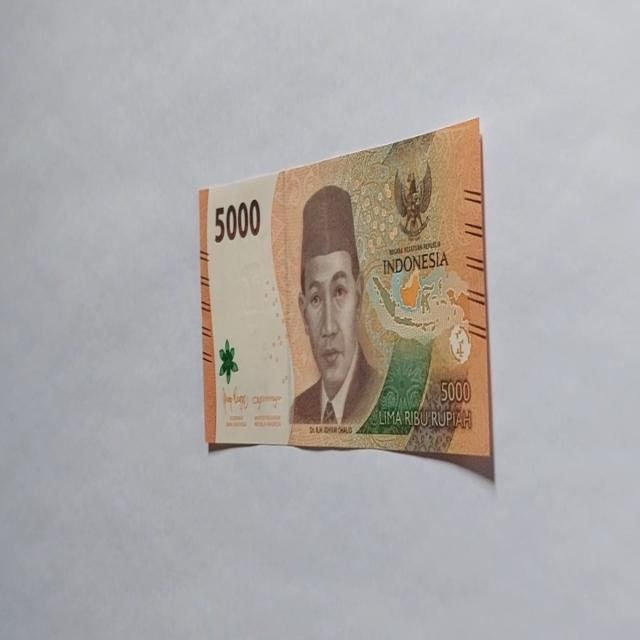lima ribu rupiah: (198, 119, 496, 484), (288, 184, 384, 428)
